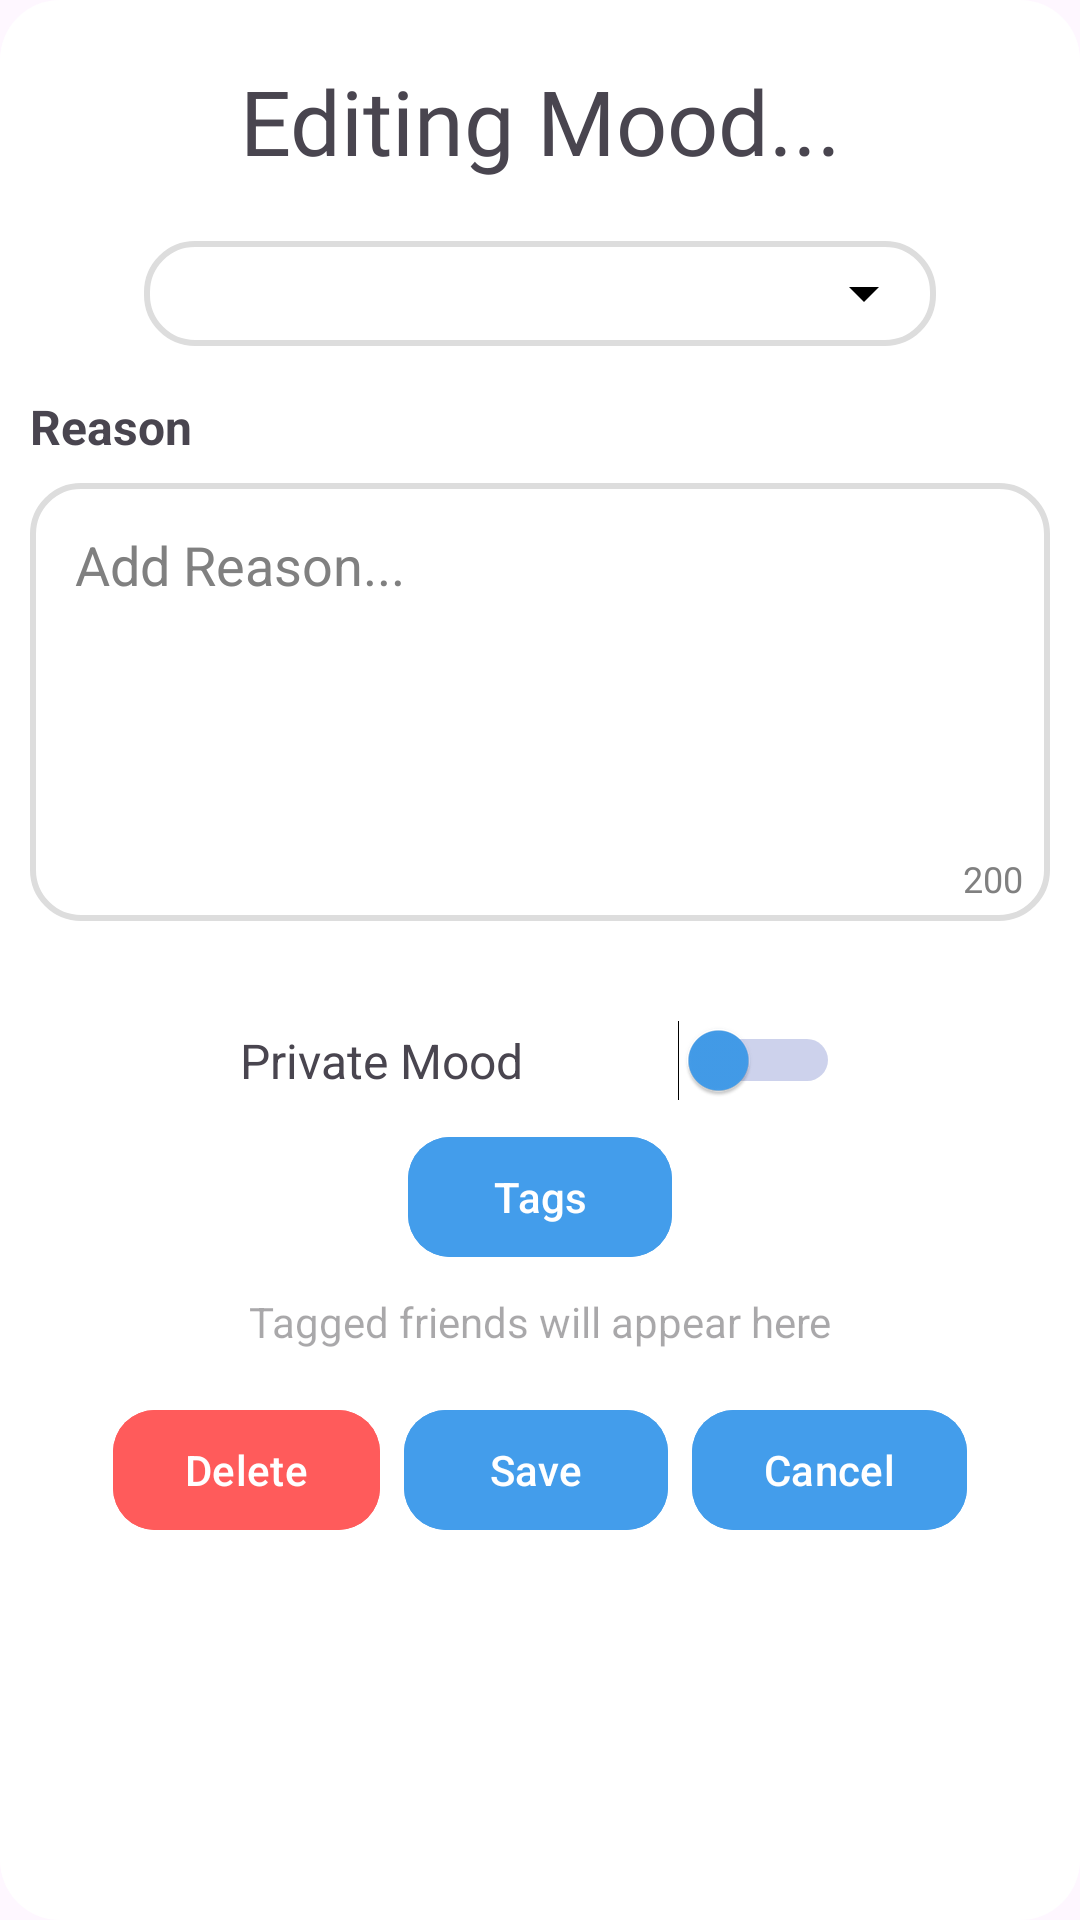

Named icons in this screenshot (1080px×1920px) and their bounding boxes, (x1, y1, x2, y2):
dropdown: (849, 287, 879, 302)
